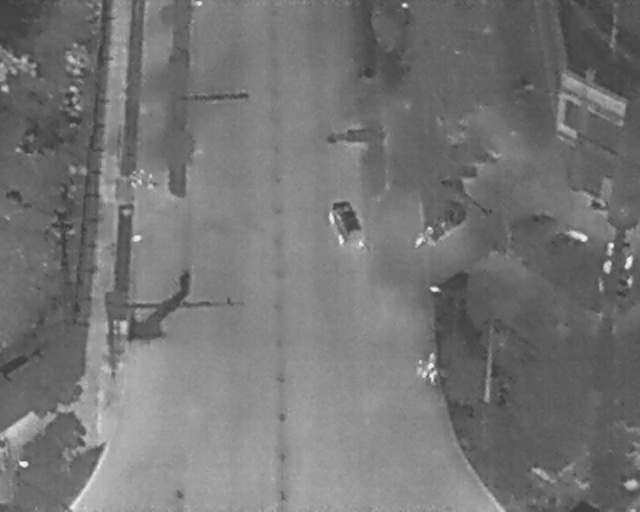Car: (322, 195, 367, 252)
Person: (411, 226, 431, 251), (419, 365, 431, 382), (426, 351, 438, 367), (416, 357, 425, 378), (137, 168, 147, 186), (129, 171, 138, 189), (147, 172, 155, 190), (429, 369, 437, 385)
